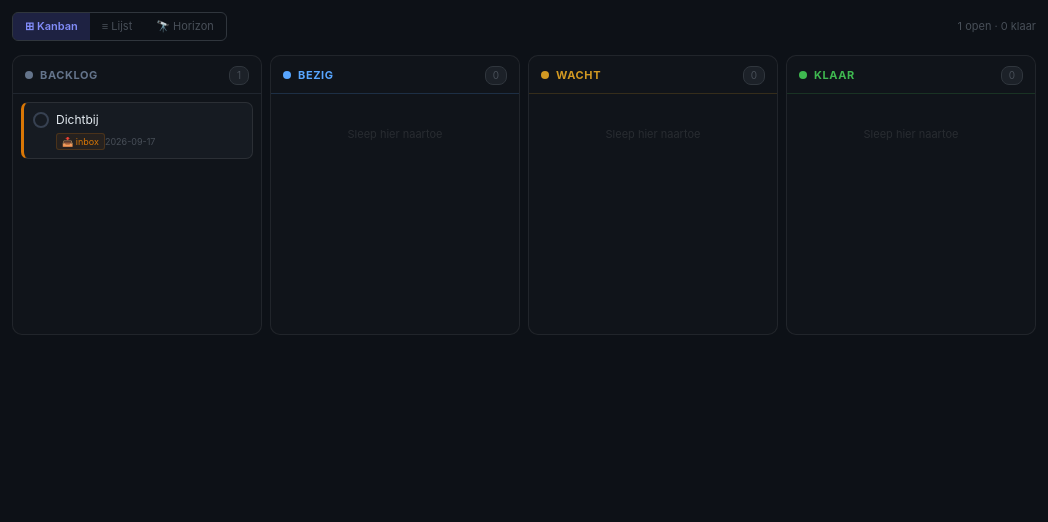
Test: TasksTab — horizon-weergave › een taak met een deadline dichtbij staat in Nu, ook al staat het opgeslagen horizon op jaar
Click the button "🔭 Horizon": click(185, 26) [144, 13, 226, 40]
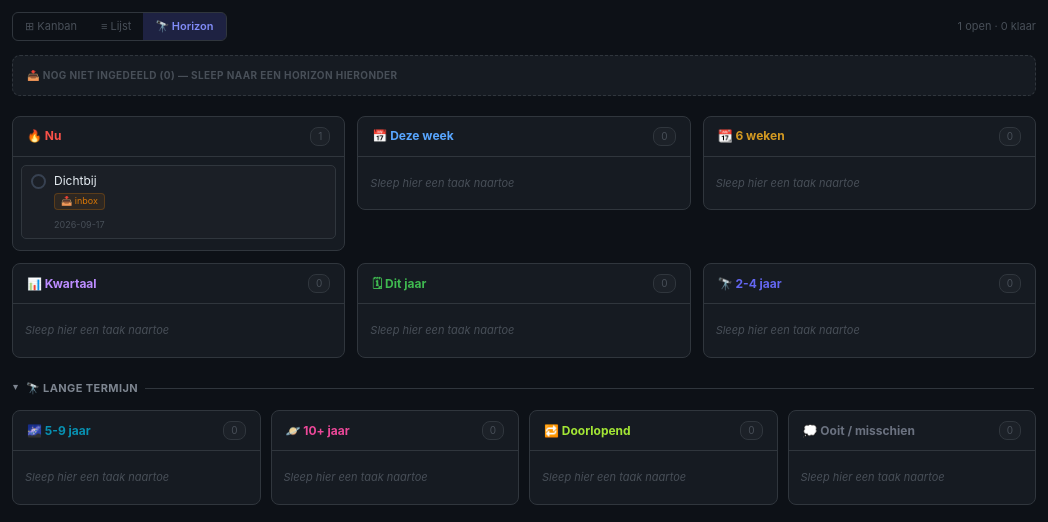
Expected: the text "Dichtbij" is not shown
Now the element showing "🔥 Nu 1 Dichtbij 📥 inbox 2026-09-17" is shown, box [12, 116, 345, 251]
